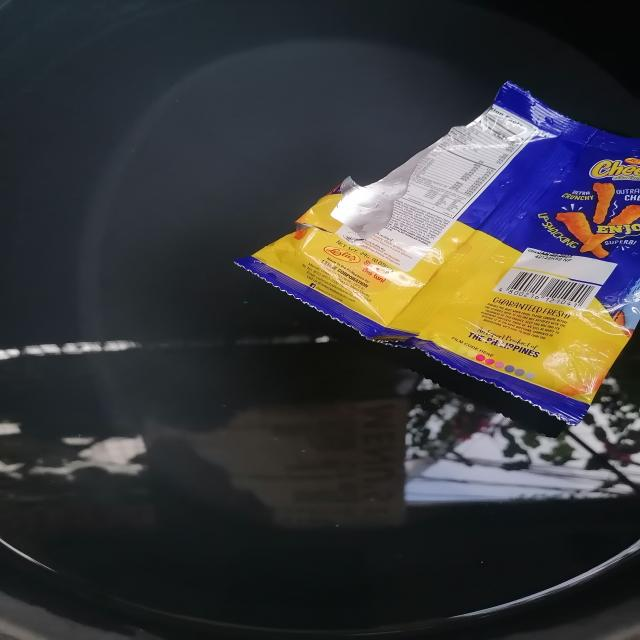Plastic Wrapper: (237, 81, 640, 424)
